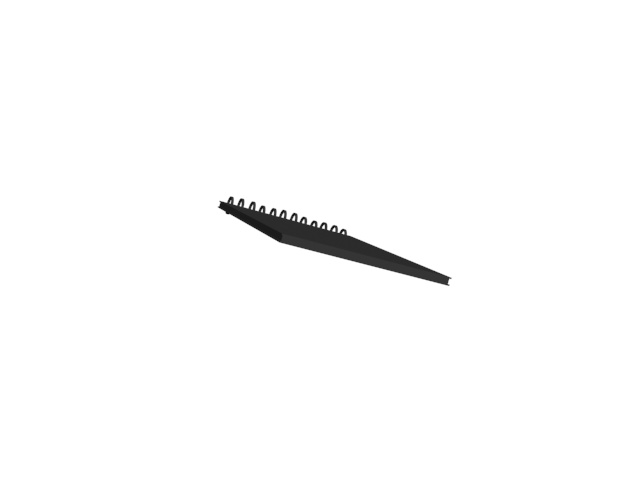paper_notebook: (217, 193, 456, 288)
